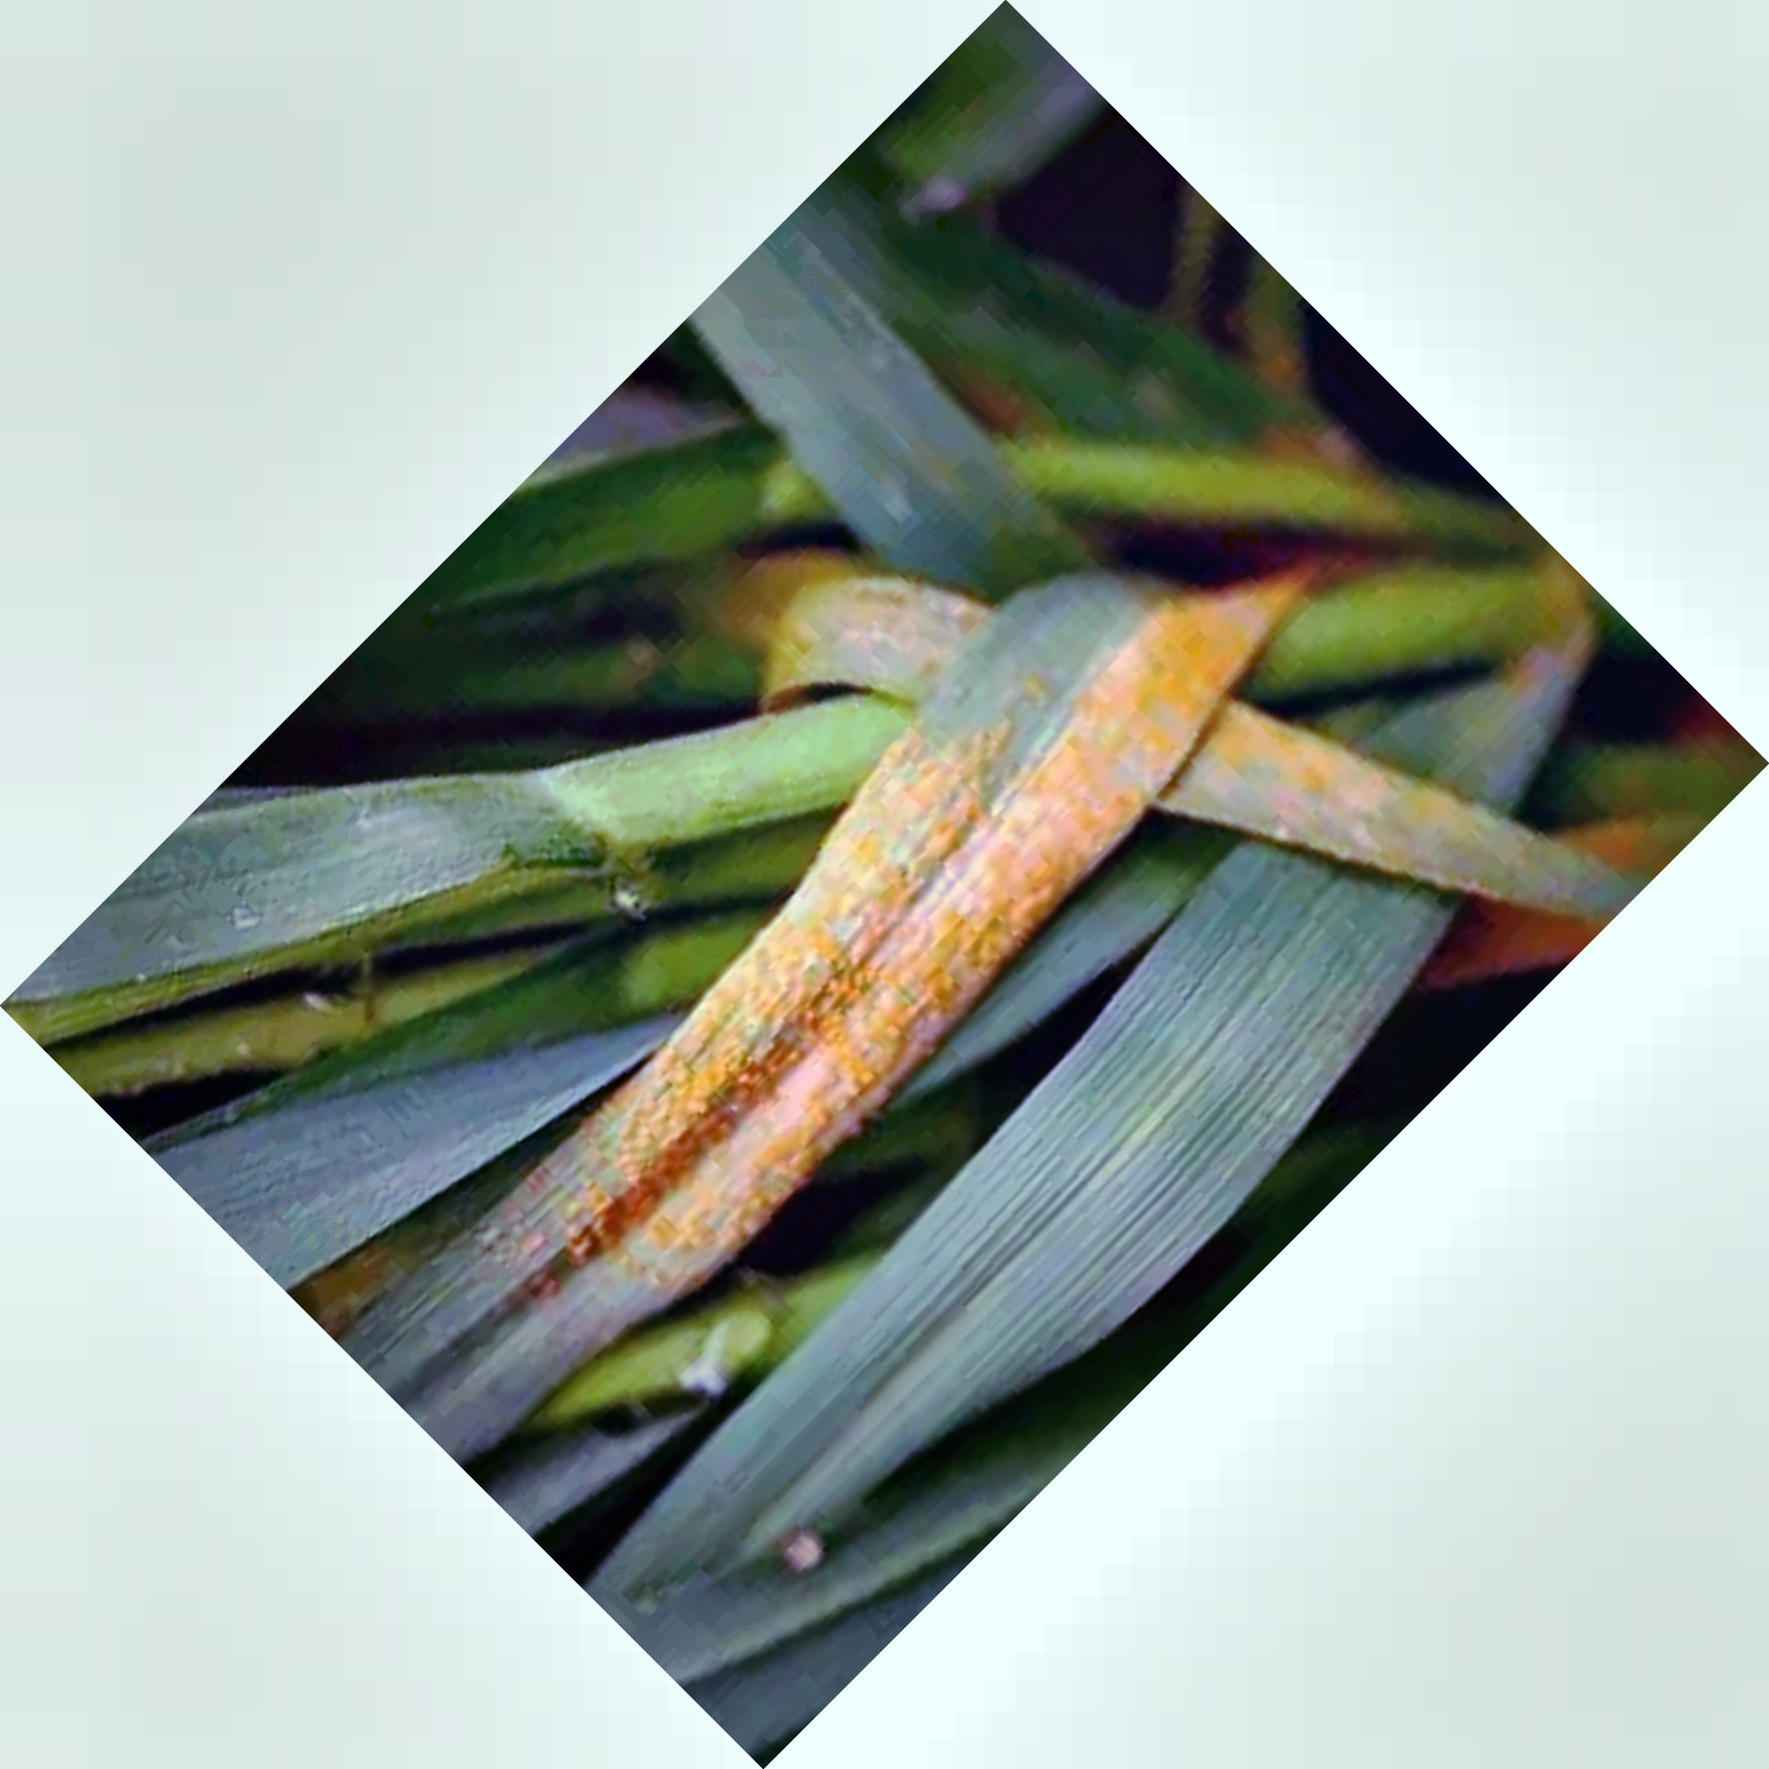Leaf Rust: (526, 591, 1264, 1306)
